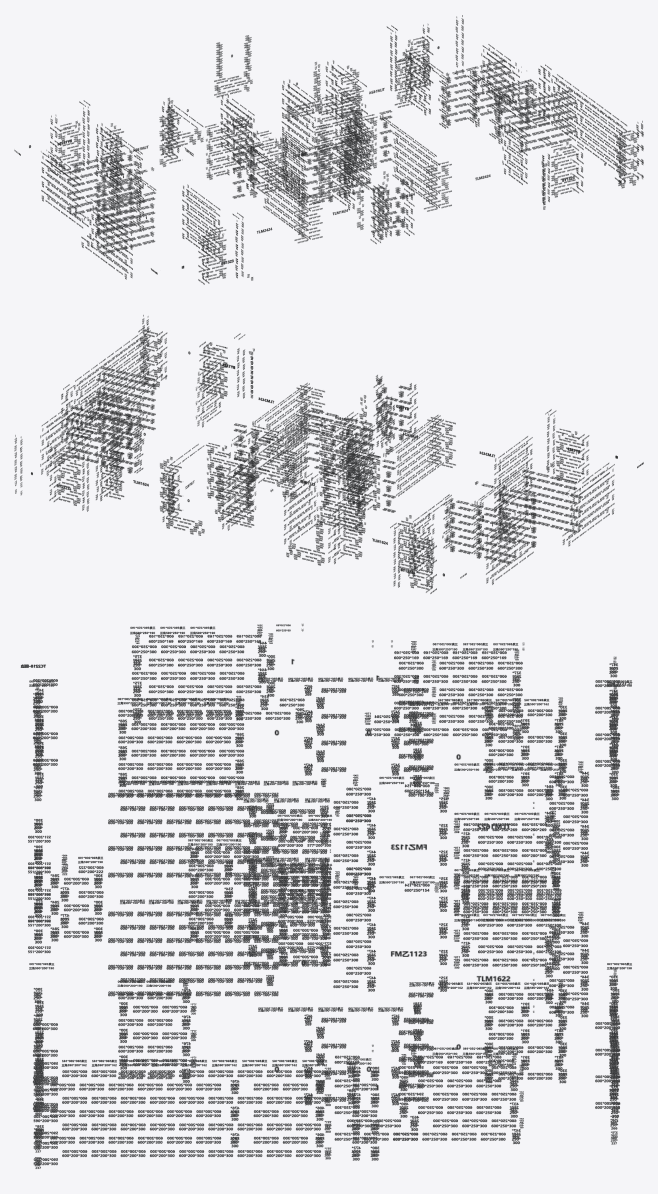
The model's file is labels.glb.
3 views of the same model, one above another, from view 1: azimuth 30°, elevation 25°; view 2: azimuth 150°, elevation 25°; view 3: azimuth 270°, elevation 25° (orthographic). The views are drawn at different scales.
Parts seen in each view (by area): view 1: L_F02; view 2: L_F02; view 3: L_F02.
Boxes of the visible parts, bbox=[...] form: L_F02: bbox=[14, 15, 643, 284]; L_F02: bbox=[14, 315, 643, 593]; L_F02: bbox=[21, 624, 632, 1168].
Bounding box in the file's own units: 22 × 3.91 × 13.
1 material, 1 textured.
